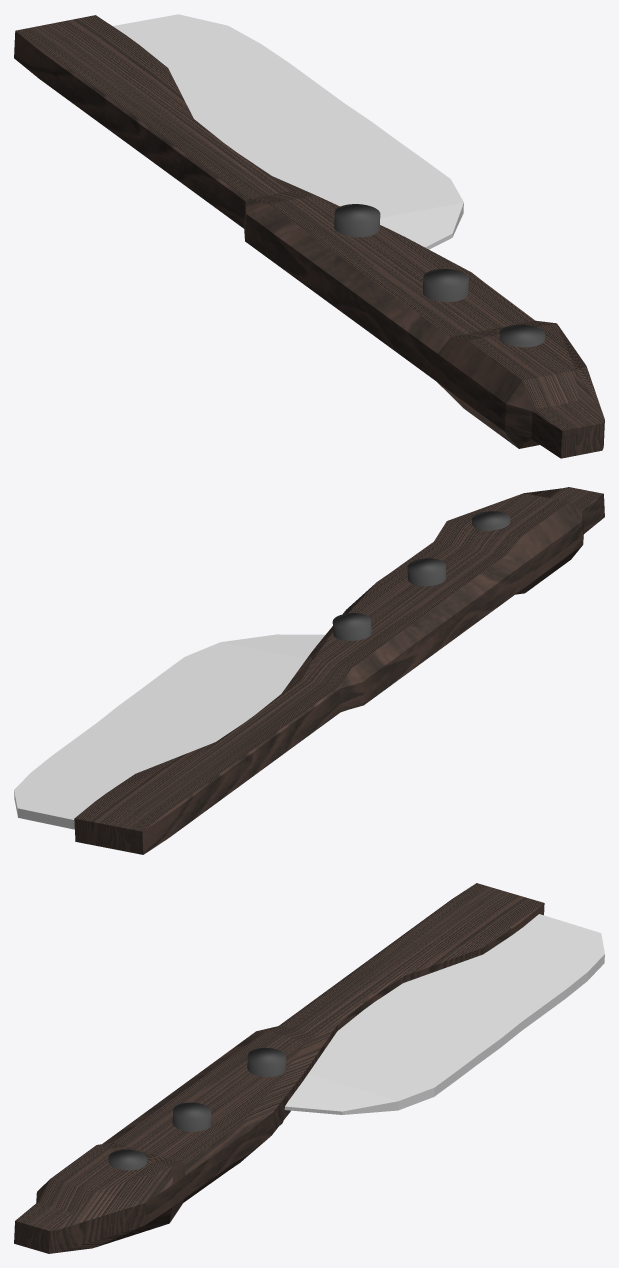
Rendered from KNIFE.glb.
3 views of the same model, one above another, from view 1: azimuth 30°, elevation 25°; view 2: azimuth 150°, elevation 25°; view 3: azimuth 330°, elevation 25° (orthographic). The views are drawn at different scales.
Visible parts, largest first — view 1: HANDLE, CUTTER, SCREWS; view 2: HANDLE, CUTTER, SCREWS; view 3: HANDLE, CUTTER, SCREWS.
Part boxes in pixels (x1,y1,x2,y2): HANDLE: [14, 15, 604, 458]; CUTTER: [113, 14, 463, 249]; SCREWS: [334, 204, 545, 347]; HANDLE: [74, 487, 604, 854]; CUTTER: [14, 634, 325, 829]; SCREWS: [332, 511, 510, 640]; HANDLE: [14, 883, 544, 1253]; CUTTER: [284, 914, 604, 1114]; SCREWS: [108, 1047, 286, 1170].
Size of the model in its own units: 0.1376 by 0.0493 by 0.6233.
5 materials, 1 textured.
